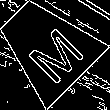M_NW: (12, 12, 80, 80)
